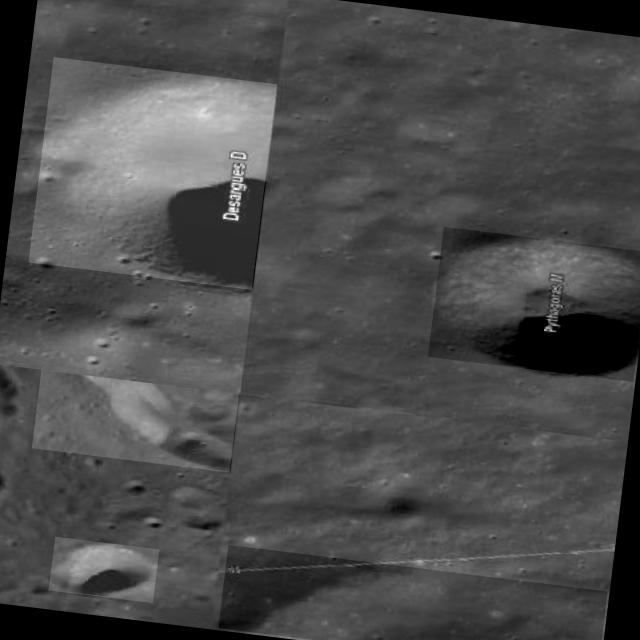crater: (28, 56, 276, 290), (217, 544, 607, 640), (427, 226, 640, 381), (32, 369, 238, 472), (48, 537, 159, 603)
